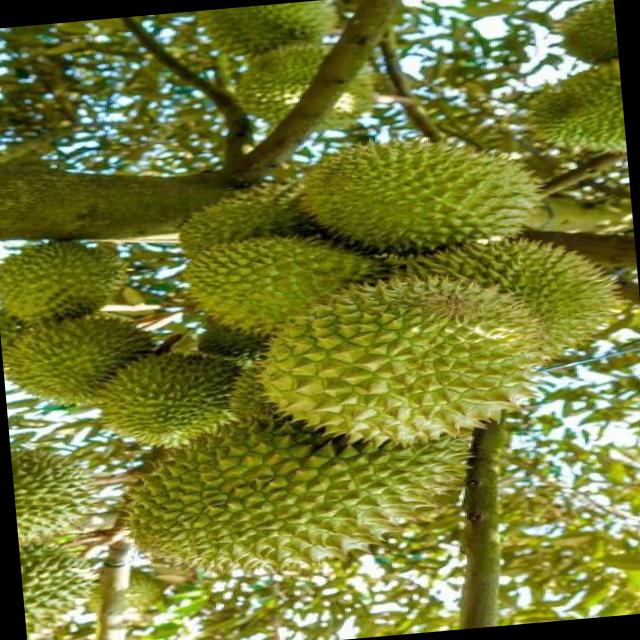Sau Rieng: (117, 402, 480, 582), (243, 261, 522, 448), (293, 126, 552, 261), (390, 227, 623, 359), (178, 222, 379, 332), (230, 36, 382, 134), (95, 352, 248, 449), (9, 307, 160, 402), (176, 171, 318, 255), (0, 234, 130, 323), (521, 65, 624, 154), (15, 439, 107, 538), (200, 0, 338, 60), (20, 539, 100, 627), (191, 319, 271, 366), (562, 0, 618, 62)
